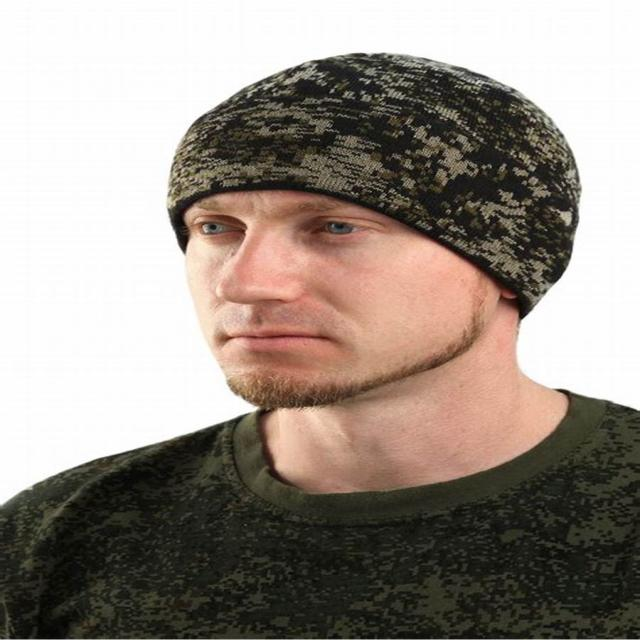illegal_helmet: (160, 37, 594, 419)
